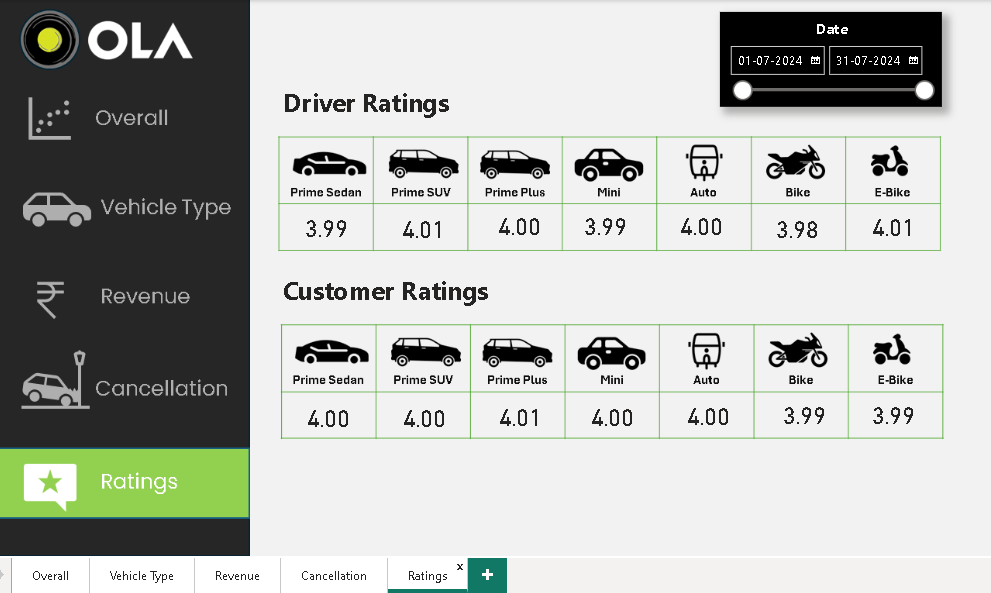

The page's visual inventory and layout, read from the dashboard file:
{"tool":"powerbi","page":{"name":"Ratings","canvas":[1280,720],"ordinal":4},"visuals":[{"type":"actionButton","box":[0,216.9,324.6,90.7],"z":0},{"type":"actionButton","box":[0,334.5,324.6,90.7],"z":1000},{"type":"actionButton","box":[0,449.3,324.6,90.7],"z":2000},{"type":"actionButton","box":[0,103.5,324.6,90.7],"z":3000},{"type":"card","fields":{"Values":["Avg(Bookings.Driver_Ratings)"]},"box":[361.8,262.3,123.6,61.8],"z":4000},{"type":"card","fields":{"Values":["Avg(Bookings.Driver_Ratings)"]},"box":[609,259.4,124.1,62],"z":5000},{"type":"card","fields":{"Values":["Avg(Bookings.Driver_Ratings)"]},"box":[719.9,259.4,124.1,62],"z":6000},{"type":"card","fields":{"Values":["Avg(Bookings.Driver_Ratings)"]},"box":[843.9,261.3,124.1,60.1],"z":7000},{"type":"card","fields":{"Values":["Avg(Bookings.Driver_Ratings)"]},"box":[968,263.1,124.1,62],"z":8000},{"type":"card","fields":{"Values":["Avg(Bookings.Driver_Ratings)"]},"box":[1092,261.3,124.1,62],"z":9000},{"type":"card","fields":{"Values":["Avg(Bookings.Driver_Ratings)"]},"box":[484.9,263.1,124.1,62],"z":10000},{"type":"card","fields":{"Values":["Avg(Bookings.Customer_Rating)"]},"box":[362.8,507.5,124.1,62],"z":11000},{"type":"card","fields":{"Values":["Avg(Bookings.Customer_Rating)"]},"box":[486.8,507.5,124.1,62],"z":12000},{"type":"card","fields":{"Values":["Avg(Bookings.Customer_Rating)"]},"box":[610.9,505.6,124.1,62],"z":13000},{"type":"card","fields":{"Values":["Avg(Bookings.Customer_Rating)"]},"box":[729.3,505.6,124.1,62],"z":14000},{"type":"card","fields":{"Values":["Avg(Bookings.Customer_Rating)"]},"box":[853.3,505.6,124.1,60.1],"z":15000},{"type":"card","fields":{"Values":["Avg(Bookings.Customer_Rating)"]},"box":[1092,503.7,124.1,62],"z":16000},{"type":"card","fields":{"Values":["Avg(Bookings.Customer_Rating)"]},"box":[977.4,503.7,124.1,62],"z":17000},{"type":"textbox","box":[360.9,103.4,248.1,67.7],"z":18000},{"type":"textbox","box":[360.9,345.8,308.3,67.7],"z":19000},{"type":"slicer","title":"Date","fields":{"Values":["Bookings-100000-Rows.Date"]},"box":[929.8,15.6,286.3,121.9],"z":20000}]}

Visuals, with their boxes on the page's 1280x720 design canvas (x1, y1, x2, y2). These are canvas units, not pixel positions in the 991x593 screenshot, which may show the page scaled, cropped or inside an application window:
actionButton: (x1=0, y1=217, x2=325, y2=308)
actionButton: (x1=0, y1=334, x2=325, y2=425)
actionButton: (x1=0, y1=449, x2=325, y2=540)
actionButton: (x1=0, y1=104, x2=325, y2=194)
card - Avg(Bookings.Driver_Ratings): (x1=362, y1=262, x2=485, y2=324)
card - Avg(Bookings.Driver_Ratings): (x1=609, y1=259, x2=733, y2=321)
card - Avg(Bookings.Driver_Ratings): (x1=720, y1=259, x2=844, y2=321)
card - Avg(Bookings.Driver_Ratings): (x1=844, y1=261, x2=968, y2=321)
card - Avg(Bookings.Driver_Ratings): (x1=968, y1=263, x2=1092, y2=325)
card - Avg(Bookings.Driver_Ratings): (x1=1092, y1=261, x2=1216, y2=323)
card - Avg(Bookings.Driver_Ratings): (x1=485, y1=263, x2=609, y2=325)
card - Avg(Bookings.Customer_Rating): (x1=363, y1=508, x2=487, y2=570)
card - Avg(Bookings.Customer_Rating): (x1=487, y1=508, x2=611, y2=570)
card - Avg(Bookings.Customer_Rating): (x1=611, y1=506, x2=735, y2=568)
card - Avg(Bookings.Customer_Rating): (x1=729, y1=506, x2=853, y2=568)
card - Avg(Bookings.Customer_Rating): (x1=853, y1=506, x2=977, y2=566)
card - Avg(Bookings.Customer_Rating): (x1=1092, y1=504, x2=1216, y2=566)
card - Avg(Bookings.Customer_Rating): (x1=977, y1=504, x2=1102, y2=566)
textbox: (x1=361, y1=103, x2=609, y2=171)
textbox: (x1=361, y1=346, x2=669, y2=414)
"Date" slicer: (x1=930, y1=16, x2=1216, y2=138)
